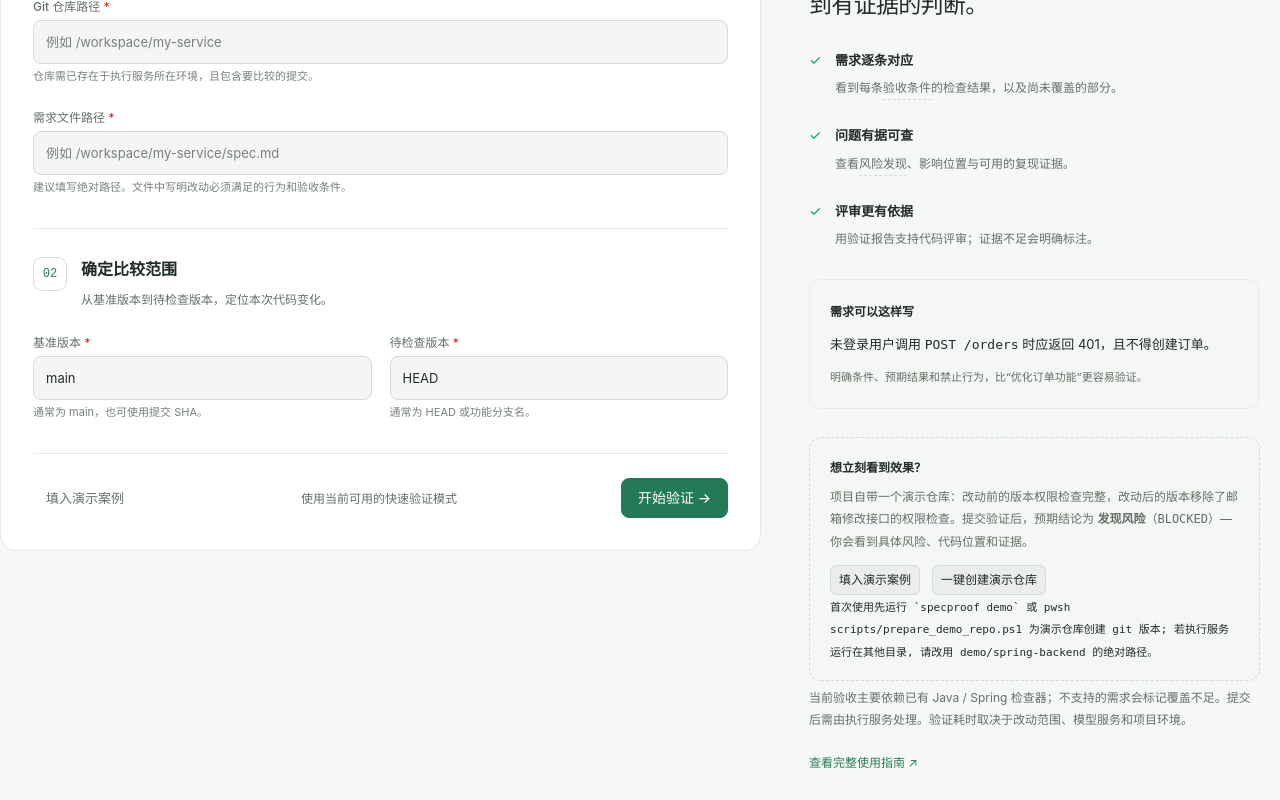
Test: NewVerification demo-repo creation (#241b) › creates the repo then auto-fills the demo form on success
The width and height of the screenshot is (1280, 800).
(page scrolled)
Check: the field labelled "Git 仓库路径 *" is empty, box [33, 20, 728, 64]
Click the button "一键创建演示仓库". click: x=989, y=580
box: [932, 565, 1046, 595]
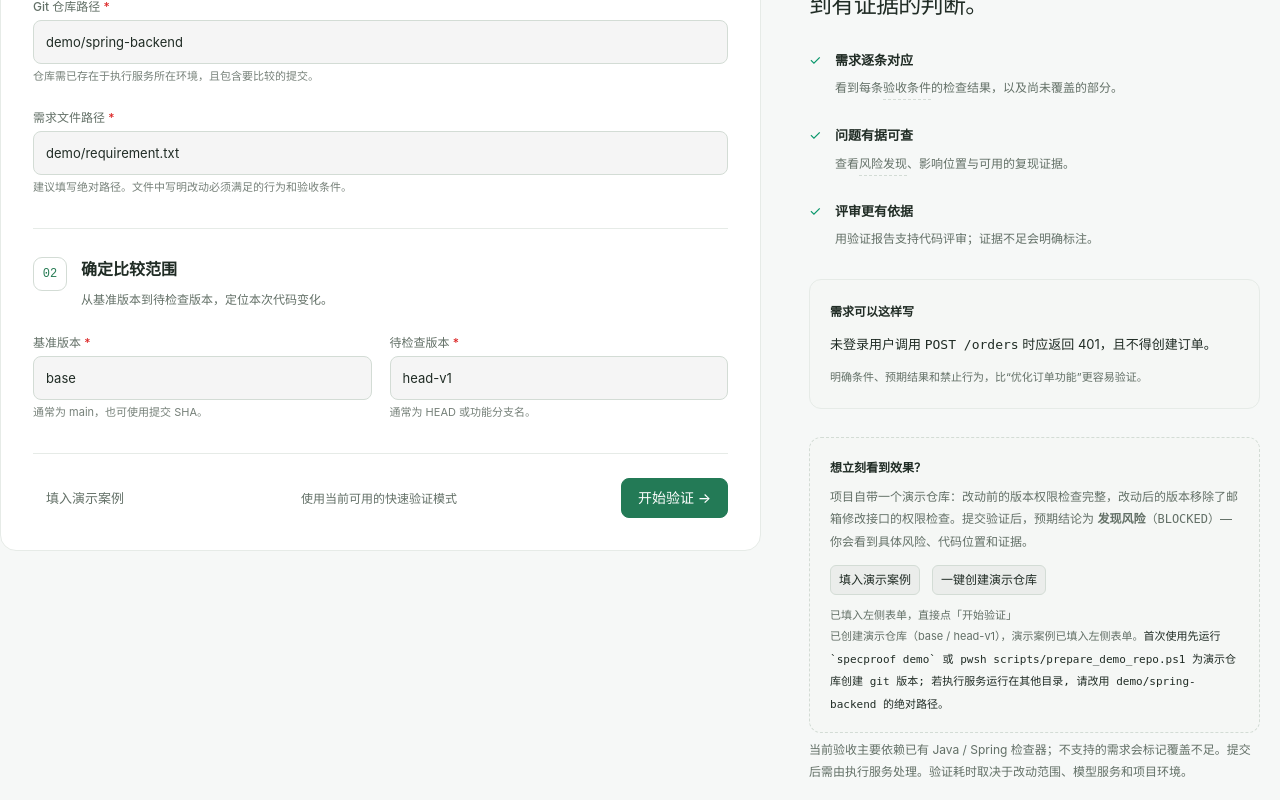
Check: the field labelled "Git 仓库路径 *" holds "demo/spring-backend", box [33, 20, 728, 64]
Check: the text "已创建演示仓库（base / head-v1），演示案例已填入左侧表单。" is shown, box [830, 629, 1144, 643]
